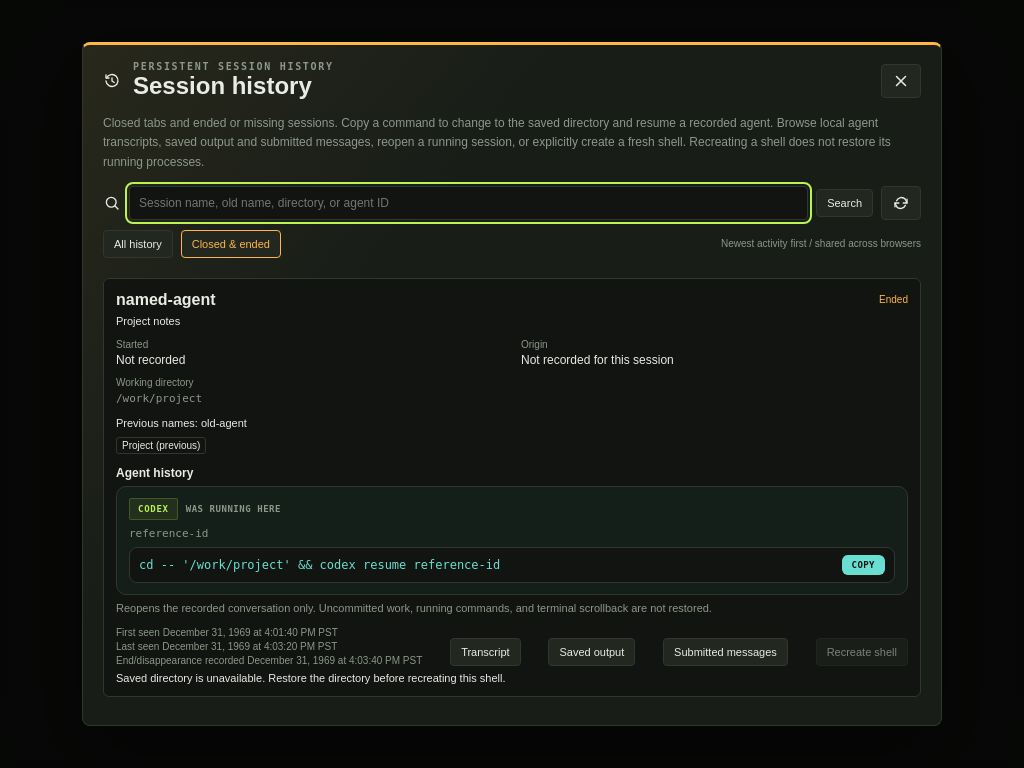
Scenario: SessionHistoryDialog › disables recreation for a missing directory and exposes load errors
Expected: the button "Recreate shell" is disabled, [816,638,908,666]
Click the button named "Refresh session history" at (901, 203), box [881,186,921,220]
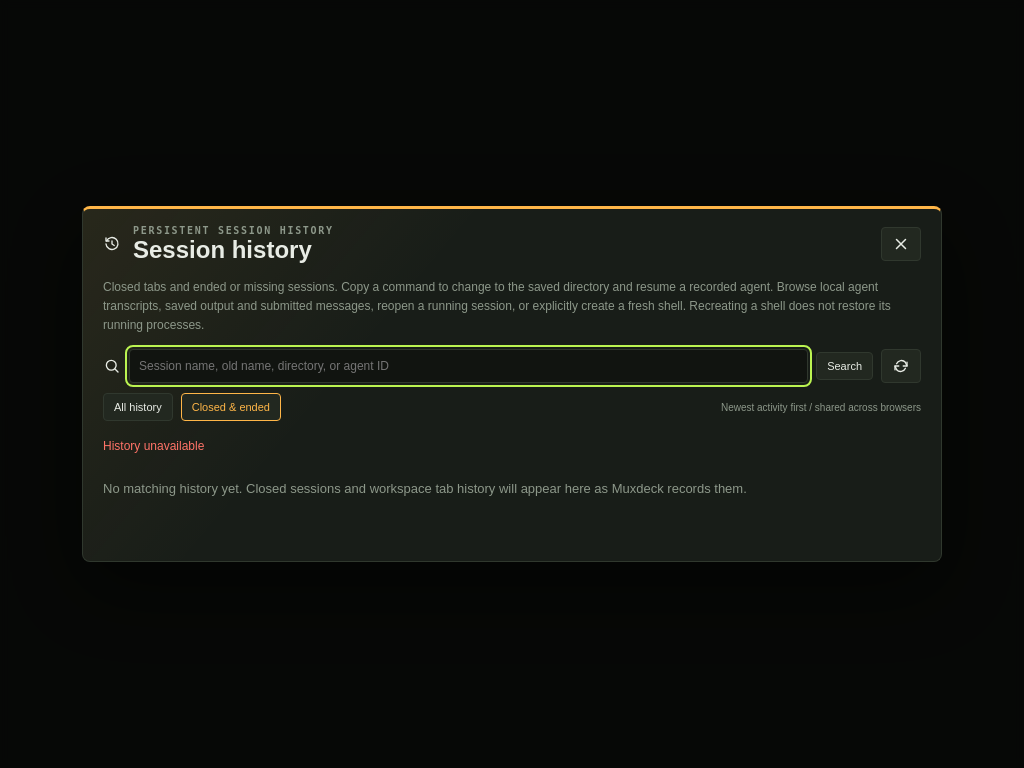
Now the message reads "History unavailable", box [103,439,204,453]
